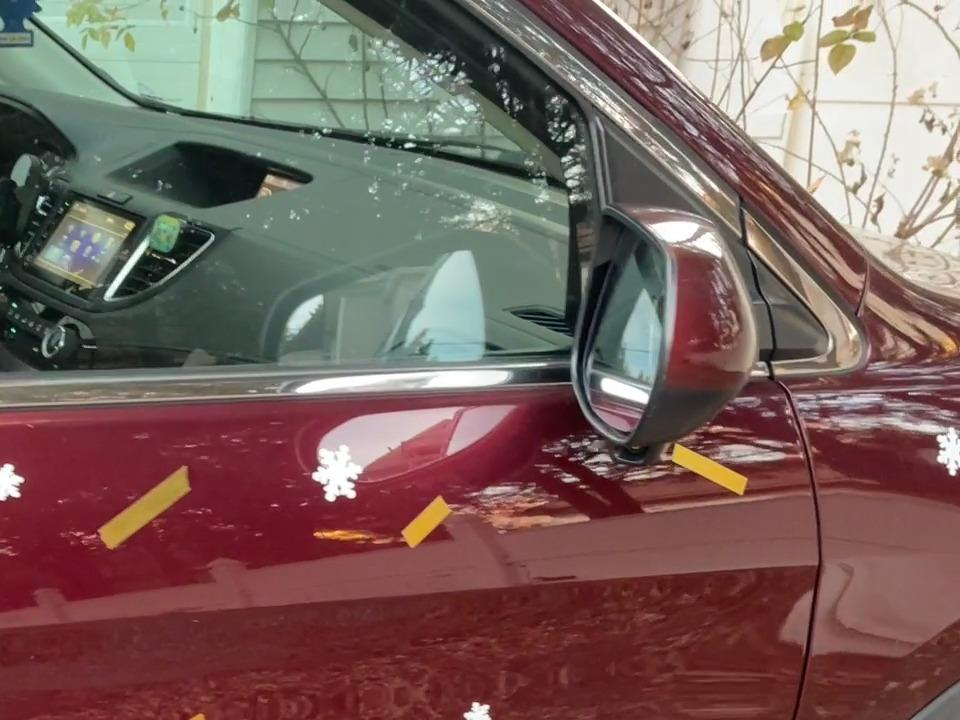dent: (309, 435, 363, 505), (0, 452, 30, 512), (460, 692, 499, 720)
scratch: (93, 457, 196, 557), (661, 433, 754, 508), (399, 491, 455, 549), (70, 702, 213, 720)
